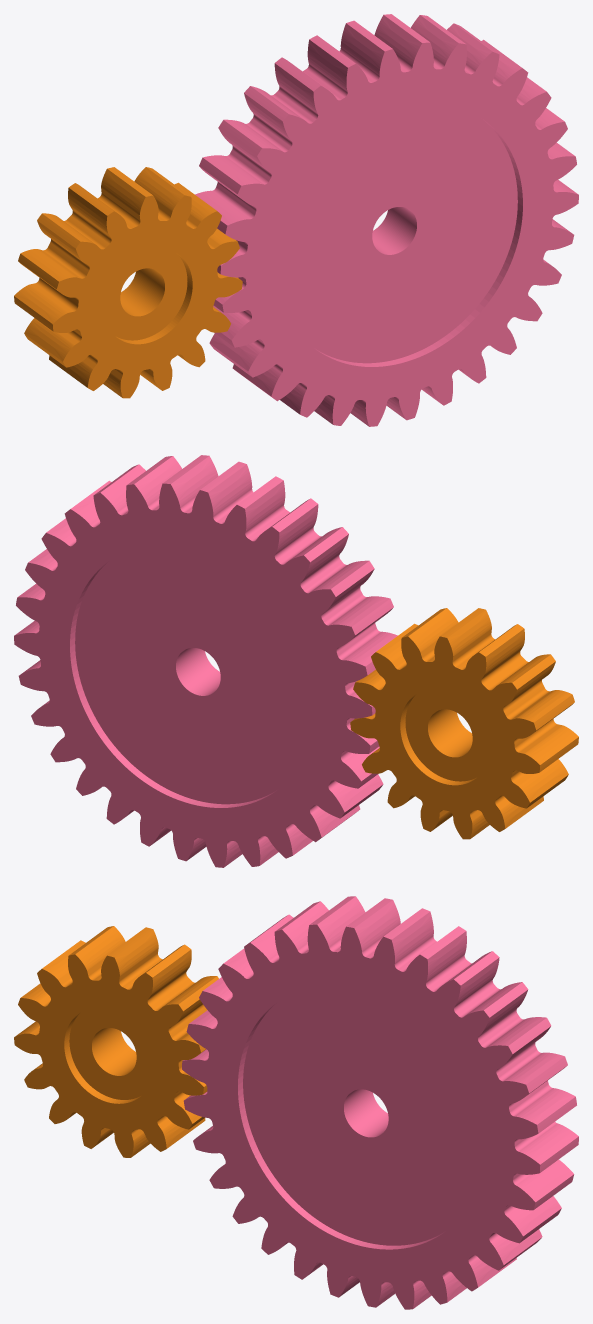
File: GearRect.obj
3 views of the same model, one above another, from view 1: azimuth 30°, elevation 25°; view 2: azimuth 150°, elevation 25°; view 3: azimuth 330°, elevation 25° (orthographic).
Parts seen in each view (by area): view 1: gear, pinion; view 2: gear, pinion; view 3: gear, pinion.
Part boxes in pixels (left/top/right/bottom): gear: left=195, top=14, right=578, bottom=426; pinion: left=14, top=167, right=242, bottom=398; gear: left=14, top=455, right=397, bottom=867; pinion: left=350, top=608, right=578, bottom=839; gear: left=182, top=896, right=578, bottom=1309; pinion: left=14, top=926, right=218, bottom=1157.
Bounding box in the file's own units: 117 × 79.95 × 15.
